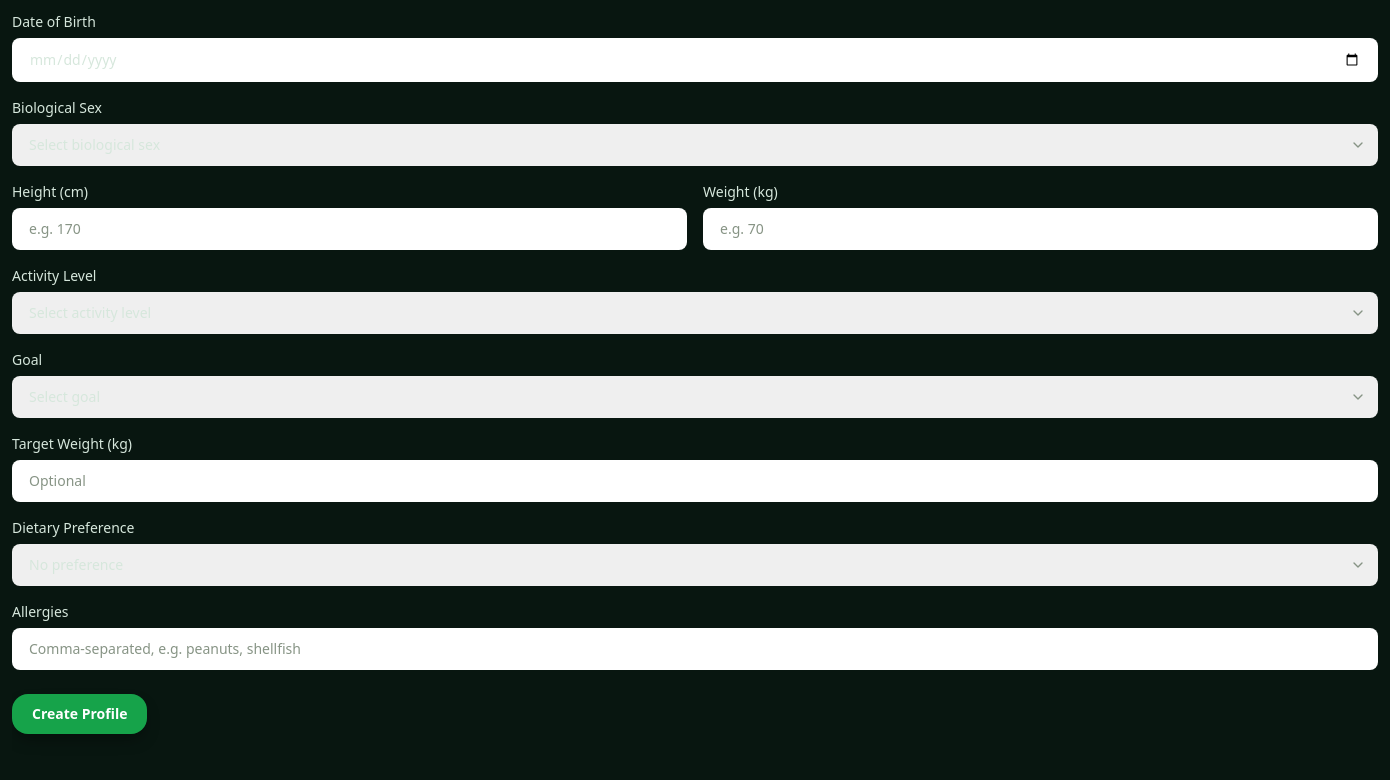
Test: NutritionProfileForm › shows height validation error for out-of-range value
The width and height of the screenshot is (1390, 780).
Type "10" into the number field with placeholder "e.g. 170".
click(350, 229); type("10")  # box [12,208,687,250]
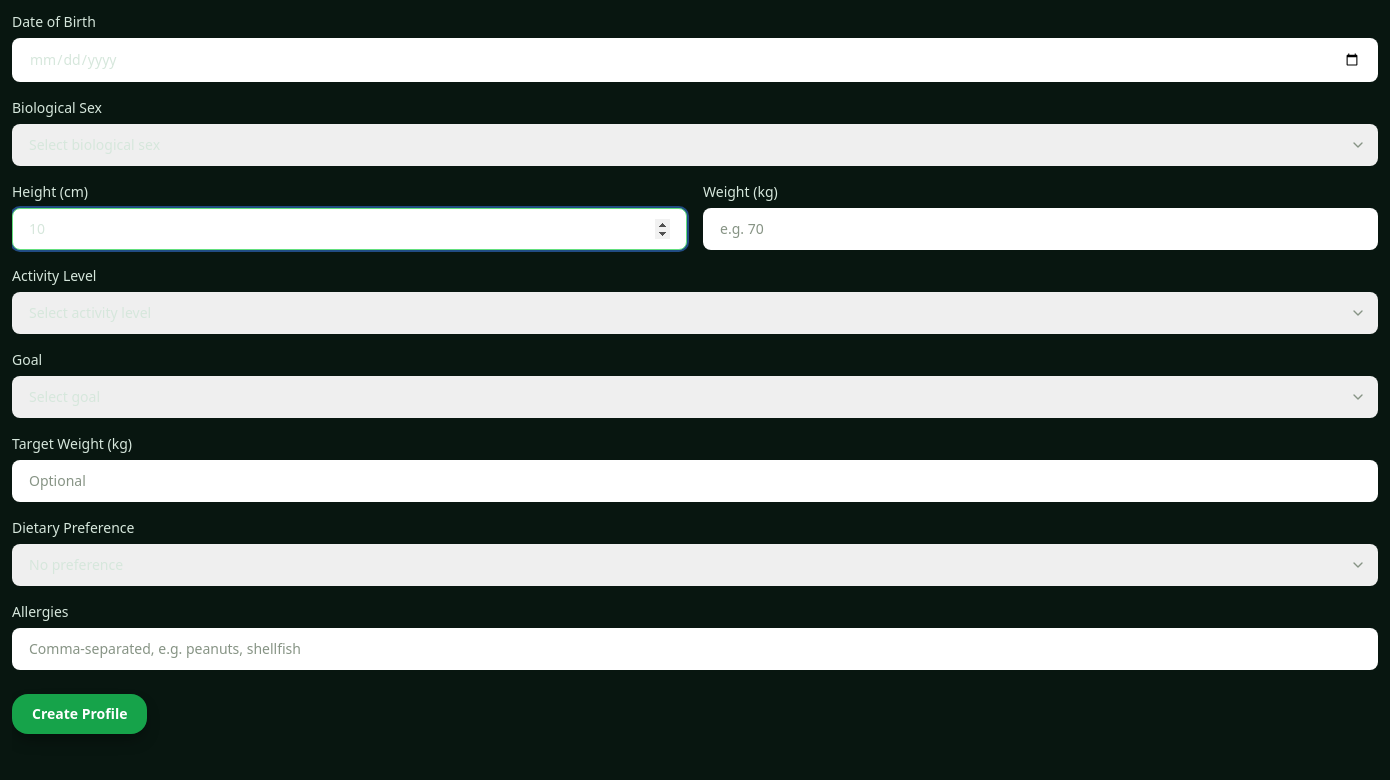
Click the button "Create Profile".
click(80, 714)  # box [12,694,148,734]
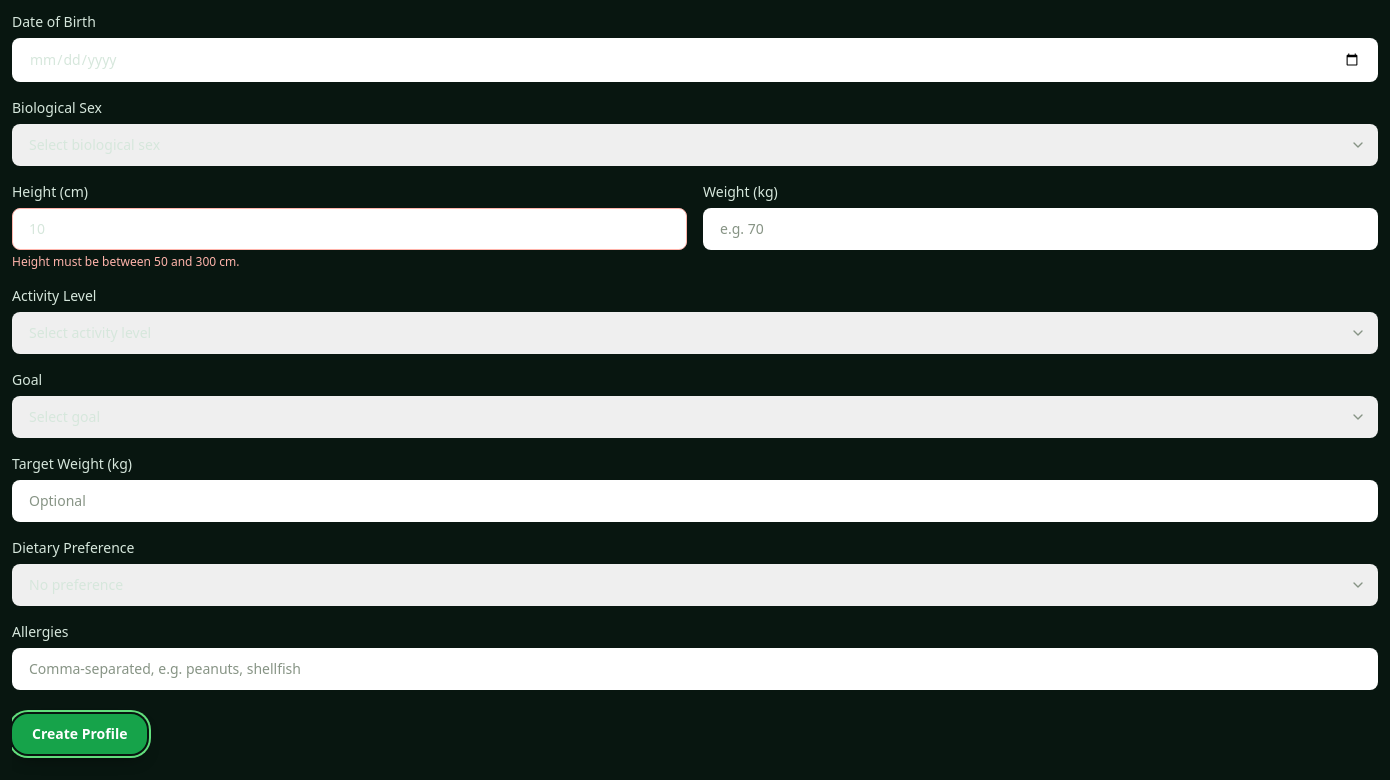
Now the text "Height must be between 50 and 300 cm." is shown, box [12,253,240,270]
